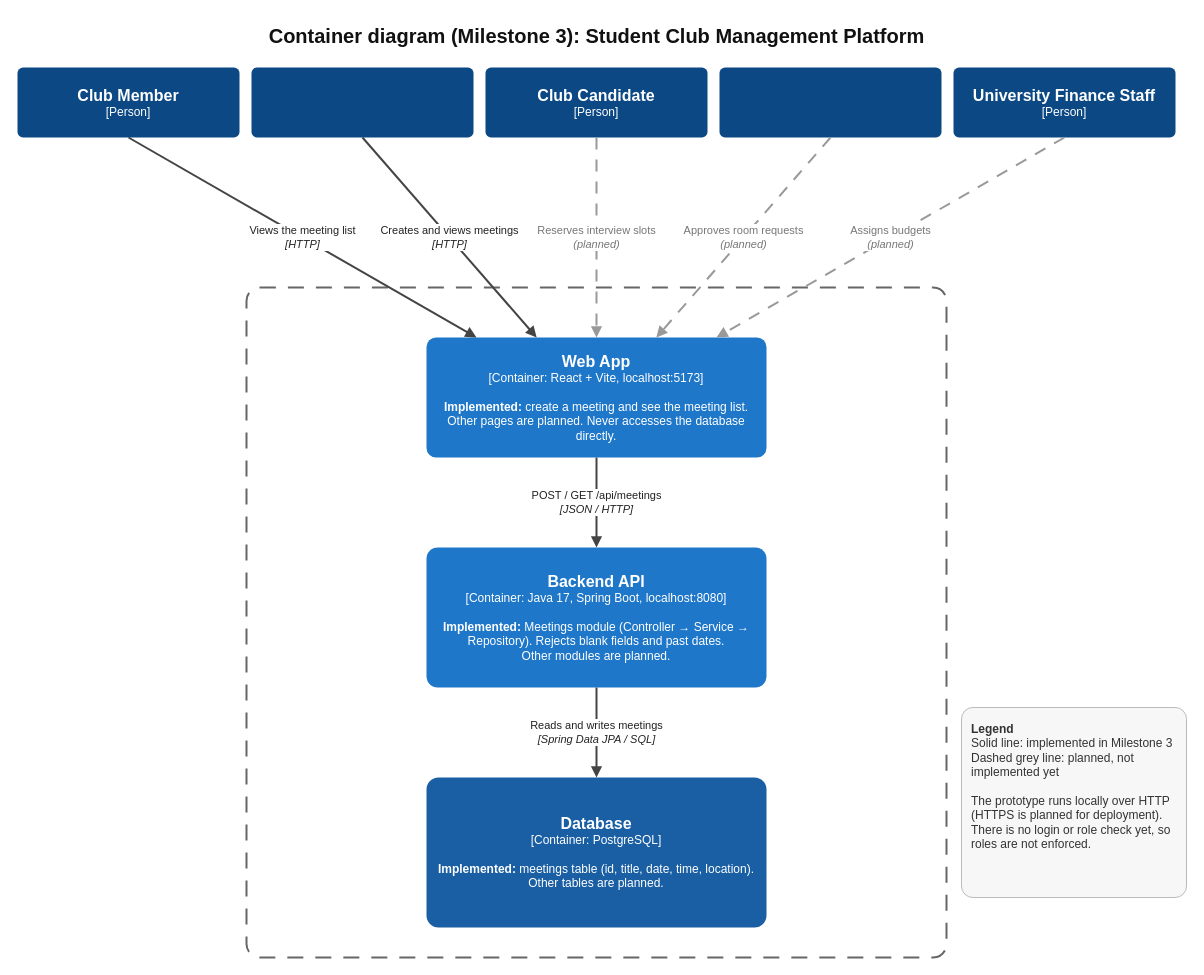
Image size: 1204x975. Some labels were removed from this diagram. The shapes that lost their labels are listed below. From the top down, each one's box as (x1, y1, x2, y2) in pixels, then its label:
(251, 67, 473, 137): Club Head [Person]
(719, 67, 941, 137): Room Coordinator [Person]
(245, 286, 947, 958): Student Club Management Platform [Software system]
